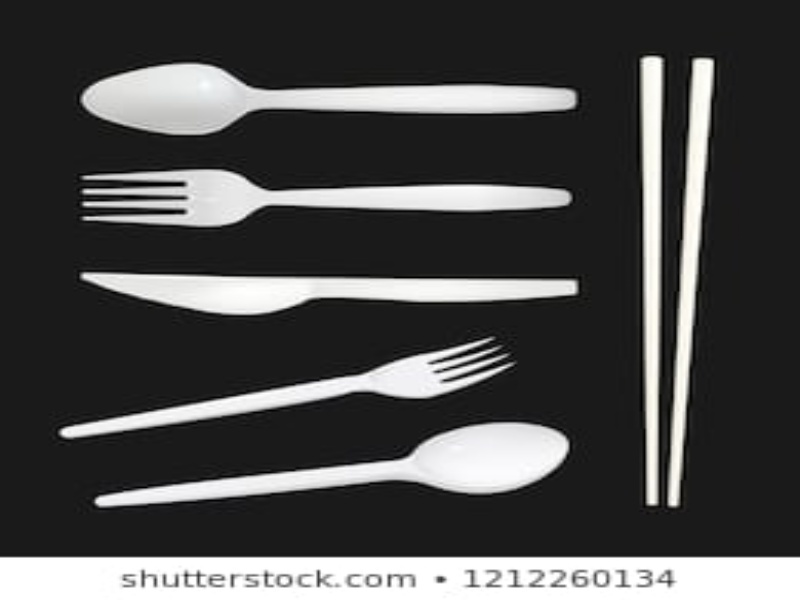plastic-silverware: (87, 410, 573, 513), (57, 333, 516, 440), (80, 60, 578, 135), (78, 161, 576, 236), (79, 261, 581, 319), (668, 57, 715, 510), (634, 55, 669, 511)
